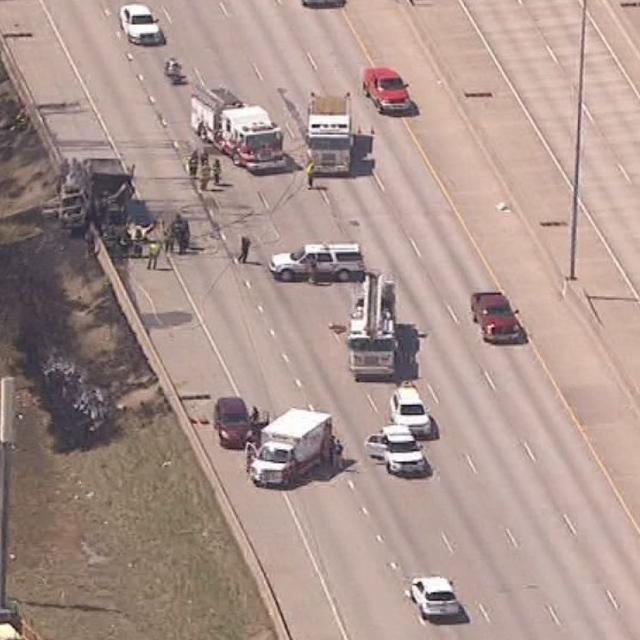traffic_incident: (38, 127, 150, 277)
